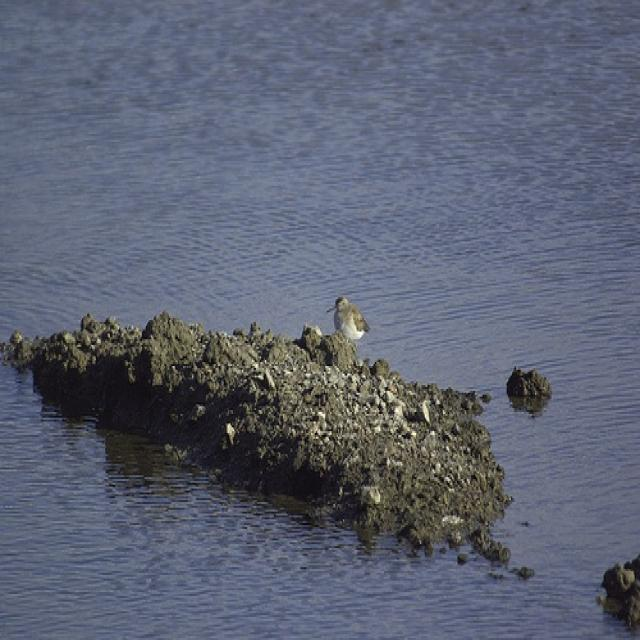bird: (326, 295, 370, 339)
